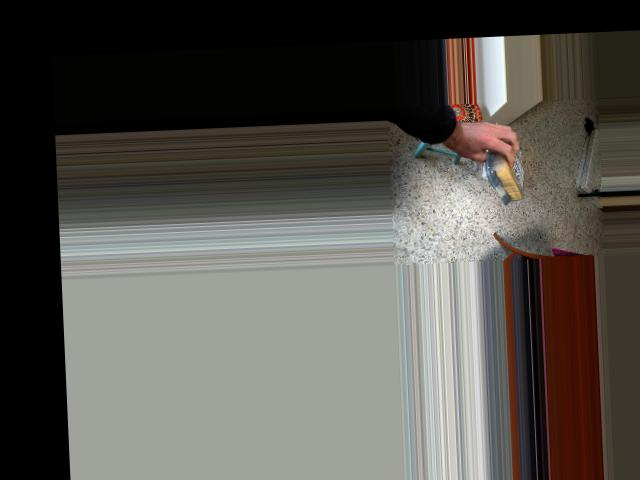cheese: (490, 138, 525, 206)
